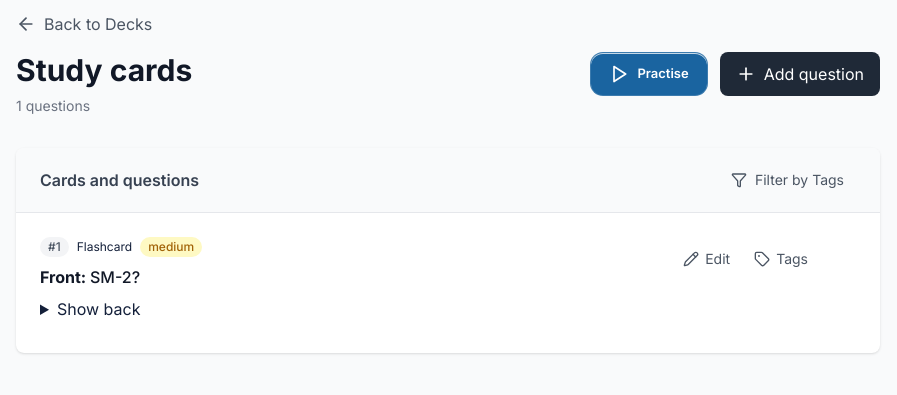
Scenario: shows a flashcard front and lets the learner reveal its back
Expected: the text "SM-2?" reads "Front: SM-2?", x1=40 y1=267 x2=140 y2=287
Click the heading "Show back": (99, 309) x1=57 y1=299 x2=140 y2=319
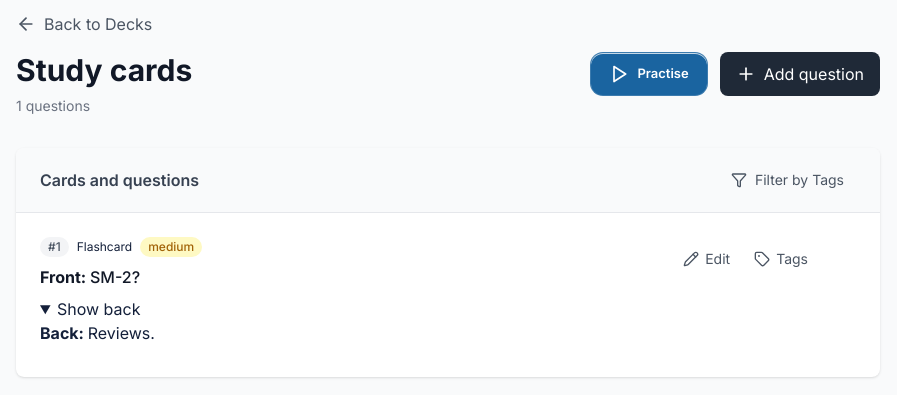
Expected: the text "Reviews." reads "Back: Reviews.", x1=40 y1=323 x2=155 y2=343
